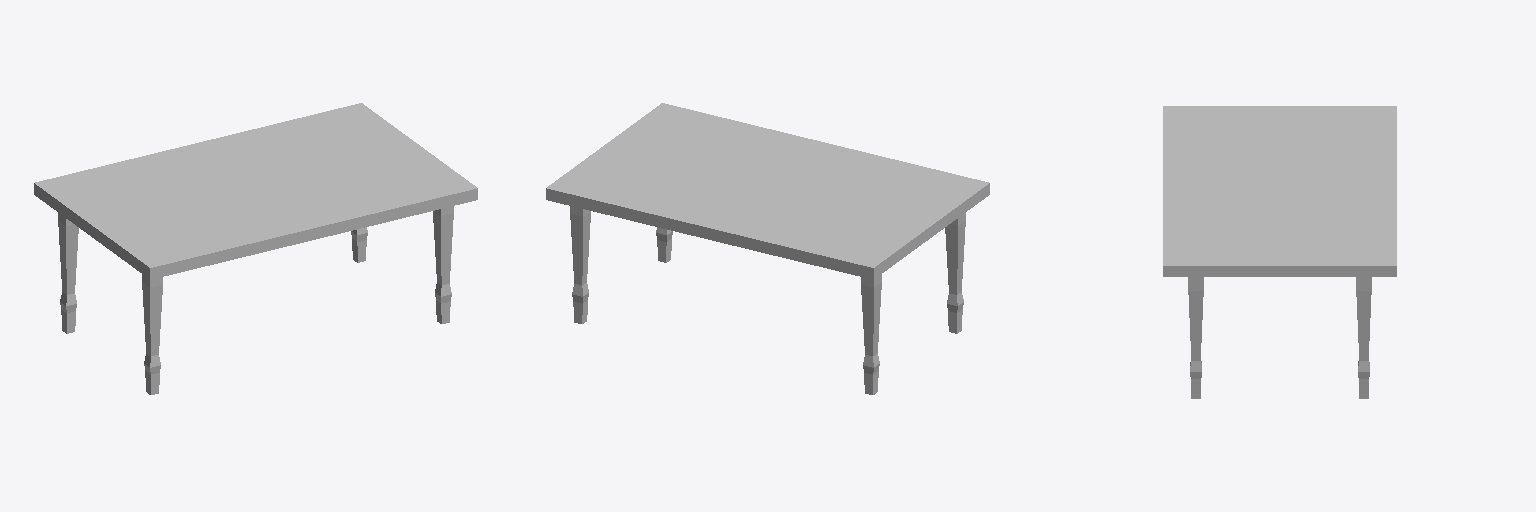
The model's file is table.obj.
3 renders of one model, left to right at view 1: azimuth 30°, elevation 25°; view 2: azimuth 150°, elevation 25°; view 3: azimuth 270°, elevation 25°, orthographic.
Parts seen in each view (by area): view 1: pCube1, pCube2 pCube3 pCube4 pCube5; view 2: pCube1, pCube2 pCube3 pCube4 pCube5; view 3: pCube1, pCube2 pCube3 pCube4 pCube5.
Boxes of the visible parts, box(x1,y1,x2,y2) form: pCube1: box(34, 103, 477, 279); pCube2 pCube3 pCube4 pCube5: box(58, 206, 453, 394); pCube1: box(546, 103, 989, 279); pCube2 pCube3 pCube4 pCube5: box(570, 206, 965, 394); pCube1: box(1163, 106, 1396, 276); pCube2 pCube3 pCube4 pCube5: box(1188, 277, 1371, 398).
Bounding box in the file's own units: 4.51 × 1.85 × 2.78.